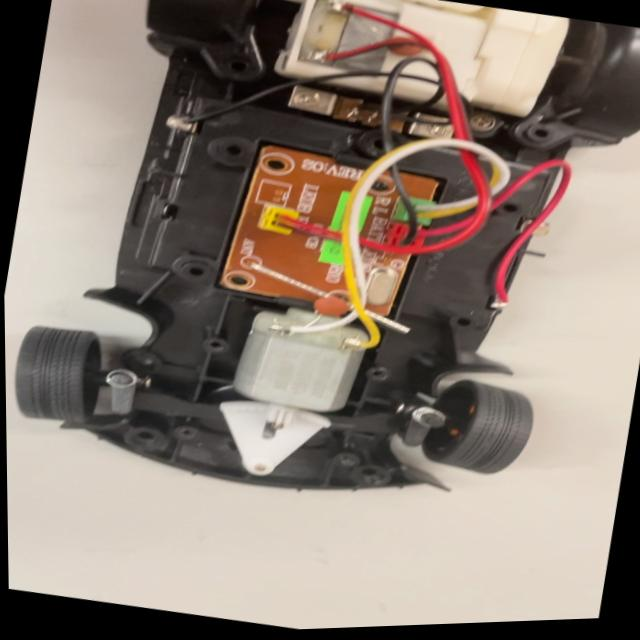Chassis: (2, 0, 612, 551)
motor: (219, 300, 372, 444)
wheel: (414, 375, 553, 496), (5, 315, 112, 429)
